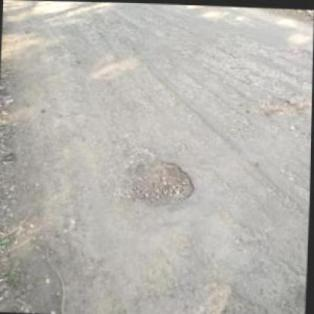Hueco: (122, 156, 198, 206), (268, 94, 300, 115)
